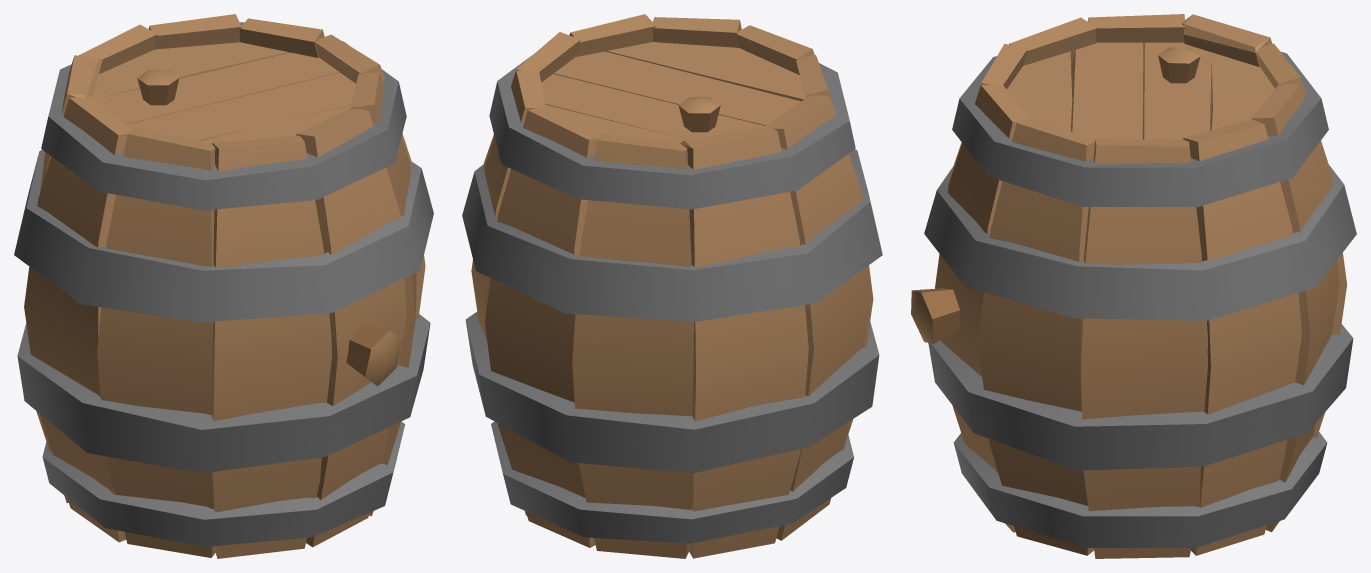
File: Barrel_E.fbx
3 renders of one model, left to right at view 1: azimuth 30°, elevation 25°; view 2: azimuth 150°, elevation 25°; view 3: azimuth 270°, elevation 25°, orthographic.
Visible parts, largest first — view 1: Barrel_E; view 2: Barrel_E; view 3: Barrel_E.
Part boxes in pixels (<box>): Barrel_E: <box>14,14,433,558</box>; Barrel_E: <box>462,14,882,558</box>; Barrel_E: <box>911,14,1356,558</box>.
Bounding box in the file's own units: 76.89 × 86.92 × 83.29.
